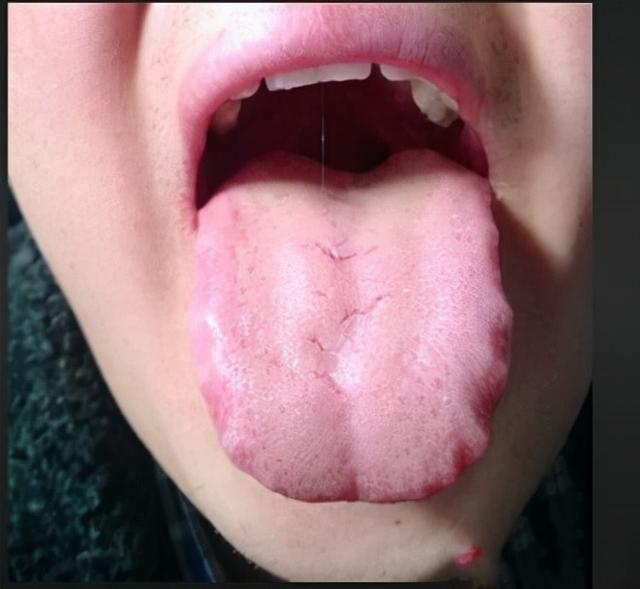chihenshe: (453, 309, 513, 481), (189, 312, 235, 447)
huangtaishe: (188, 147, 514, 504)
liewenshe: (309, 240, 388, 393)
